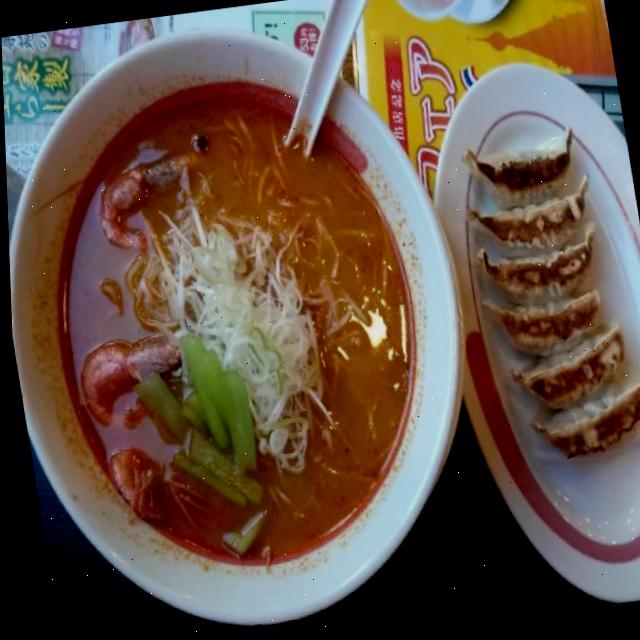带馅早点: (399, 43, 640, 611)
面条主食: (0, 2, 495, 640)
